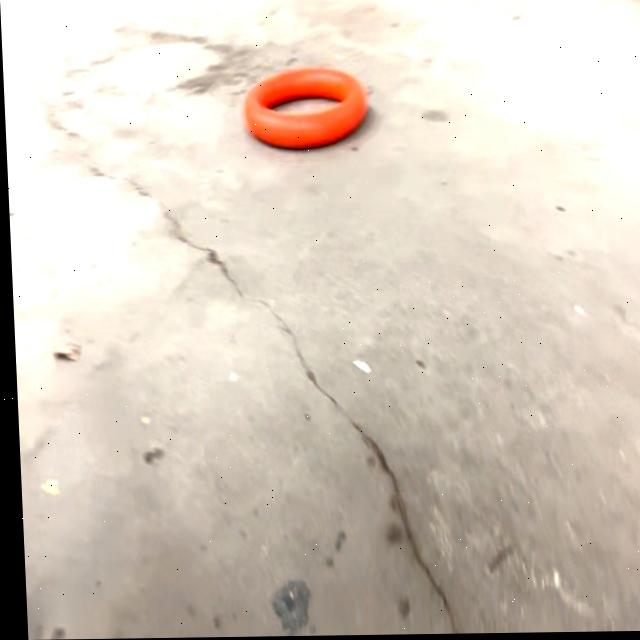note: (240, 63, 370, 154)
